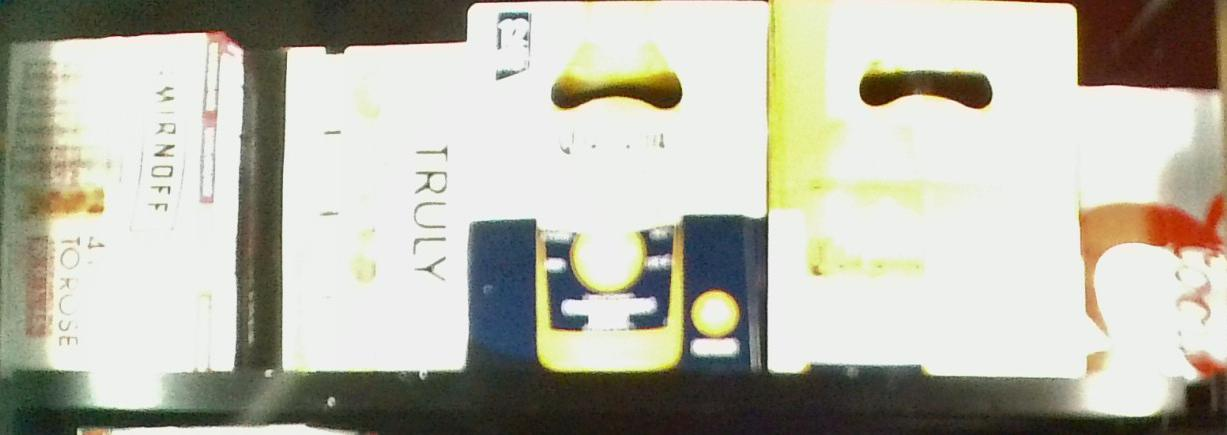bottle: (767, 1, 1080, 379), (465, 1, 768, 373), (1, 33, 236, 369), (236, 42, 470, 372), (1078, 88, 1227, 381)
